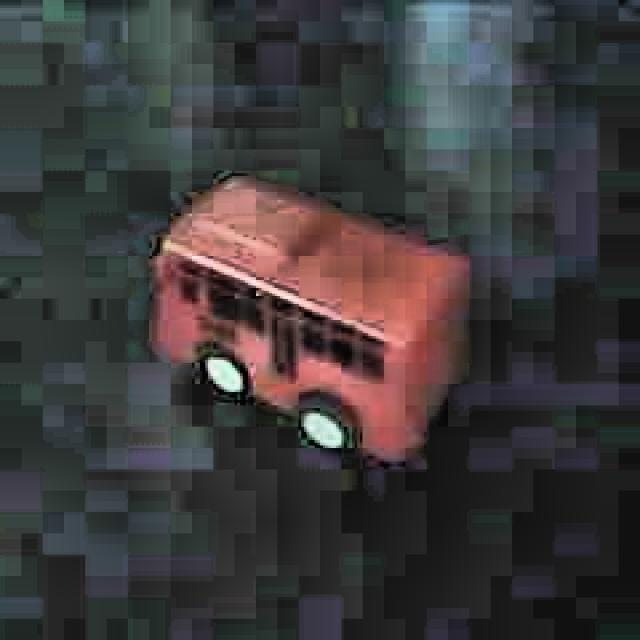bus: (138, 161, 484, 473)
